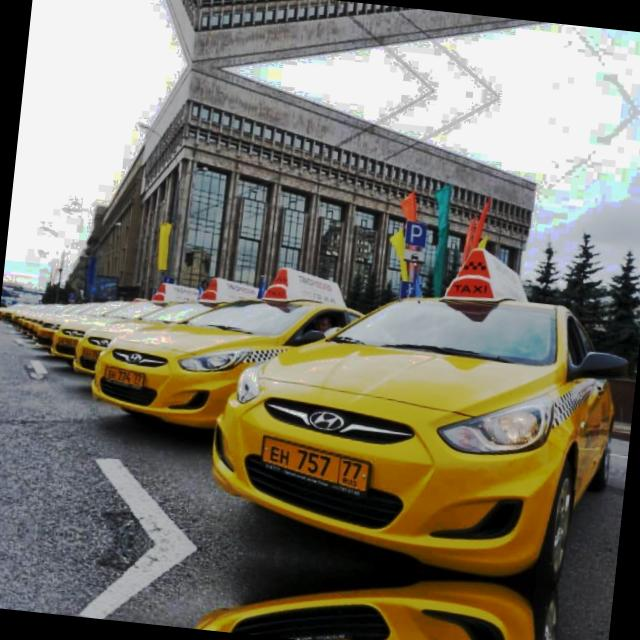taxi: (251, 432, 378, 503), (236, 615, 358, 640), (98, 358, 150, 398)
